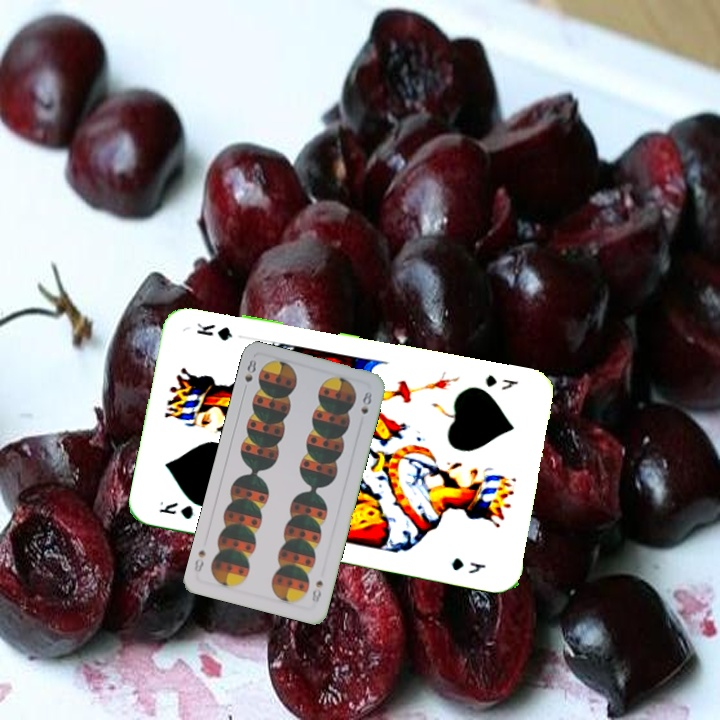GK: (155, 498, 196, 522), (481, 370, 521, 393)
S8: (239, 355, 259, 395), (308, 576, 325, 605)
